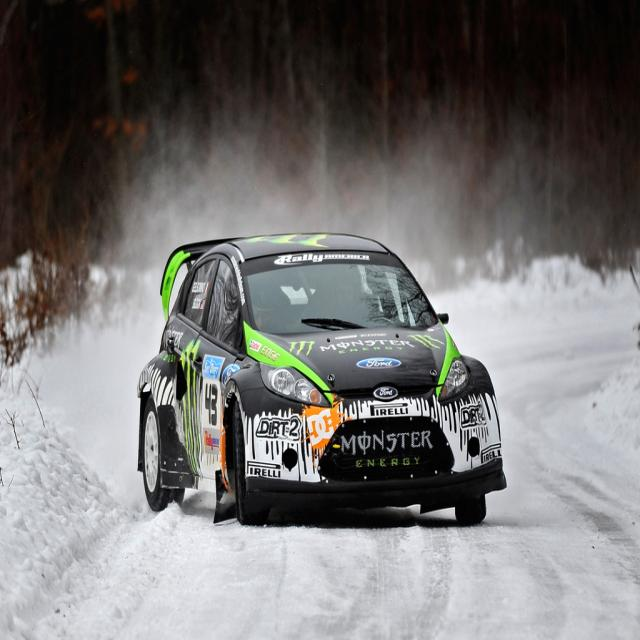car: (133, 225, 508, 519)
